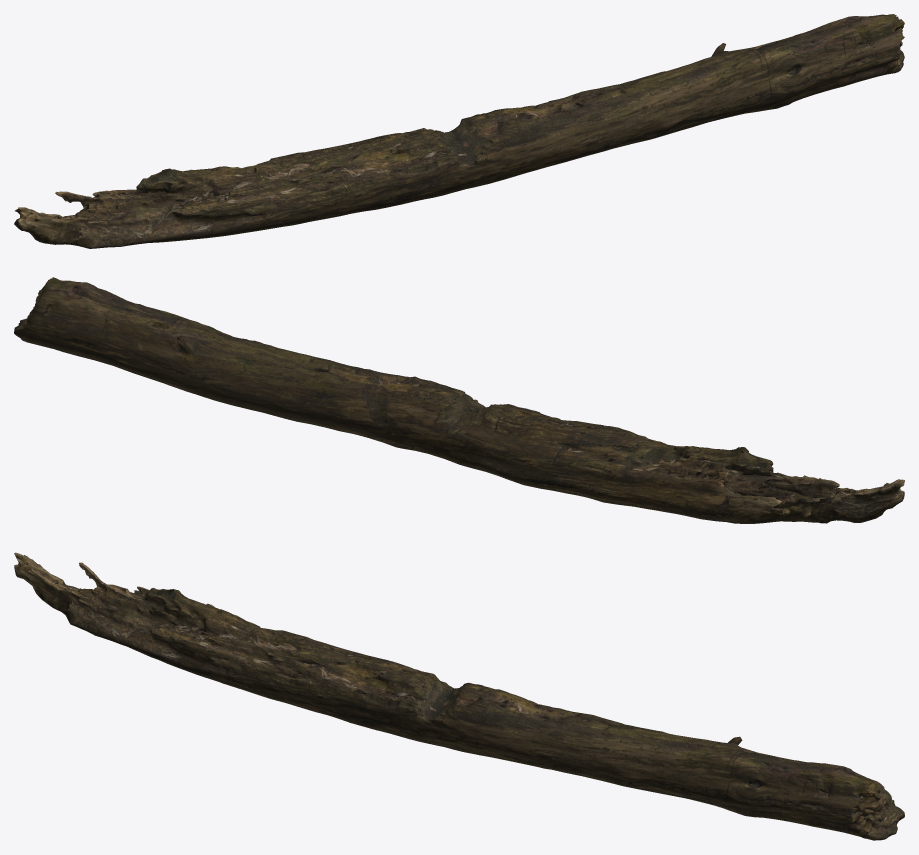
File: sunken_trunk_a.glb
The picture shows the model from 3 angles, top to bottom: view 1: azimuth 30°, elevation 25°; view 2: azimuth 150°, elevation 25°; view 3: azimuth 330°, elevation 25°; orthographic projection.
Visible parts, largest first — view 1: sunken_trunk_a; view 2: sunken_trunk_a; view 3: sunken_trunk_a.
Part boxes in pixels (x1=…): sunken_trunk_a: x1=14, y1=14, x2=904, y2=248; sunken_trunk_a: x1=14, y1=277, x2=904, y2=523; sunken_trunk_a: x1=14, y1=552, x2=904, y2=840.
Size of the model in its own units: 3.05 by 0.2894 by 0.2772.
Materials: 1 (1 with a texture image).
